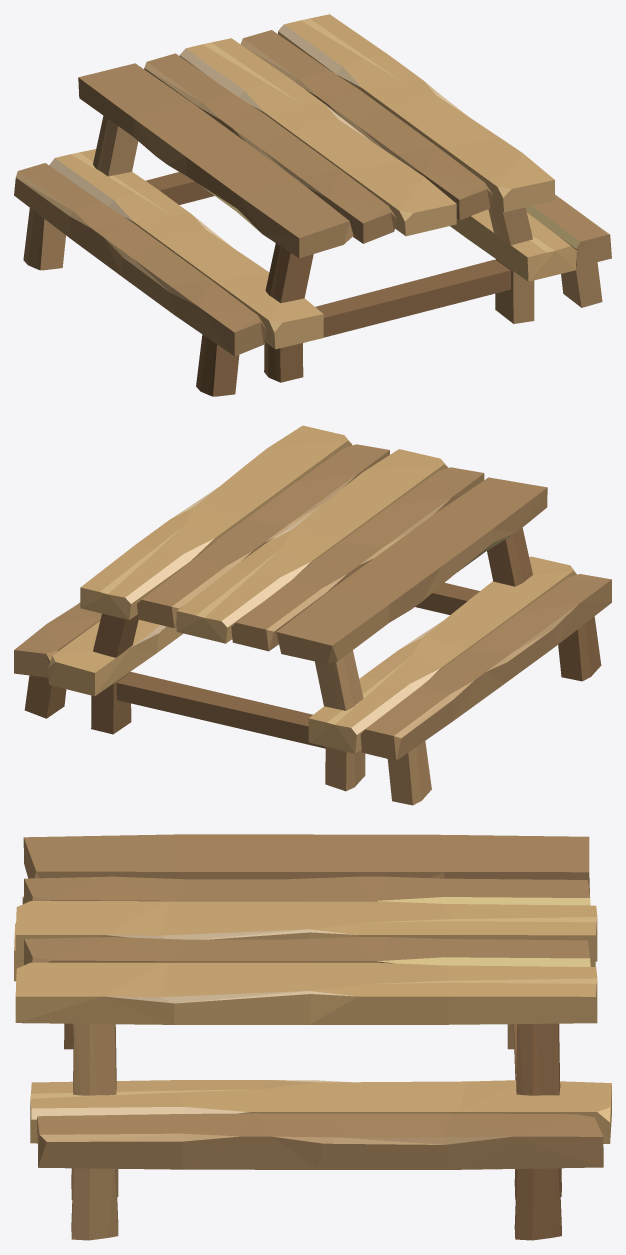
The model's file is EA_M_Furniture_Table_Wooden_01.fbx.
The picture shows the model from 3 angles, top to bottom: view 1: azimuth 30°, elevation 25°; view 2: azimuth 150°, elevation 25°; view 3: azimuth 270°, elevation 25°; orthographic projection. The views are drawn at different scales.
Parts seen in each view (by area): view 1: EA_M_Furniture_Table_Wooden_01_LOD0; view 2: EA_M_Furniture_Table_Wooden_01_LOD0; view 3: EA_M_Furniture_Table_Wooden_01_LOD0.
Part boxes in pixels (<box>): EA_M_Furniture_Table_Wooden_01_LOD0: <box>14,14,611,396</box>; EA_M_Furniture_Table_Wooden_01_LOD0: <box>14,425,611,805</box>; EA_M_Furniture_Table_Wooden_01_LOD0: <box>14,834,611,1240</box>.
Size of what is drawn, in the model's own units: 2.91 by 1.13 by 2.96.
